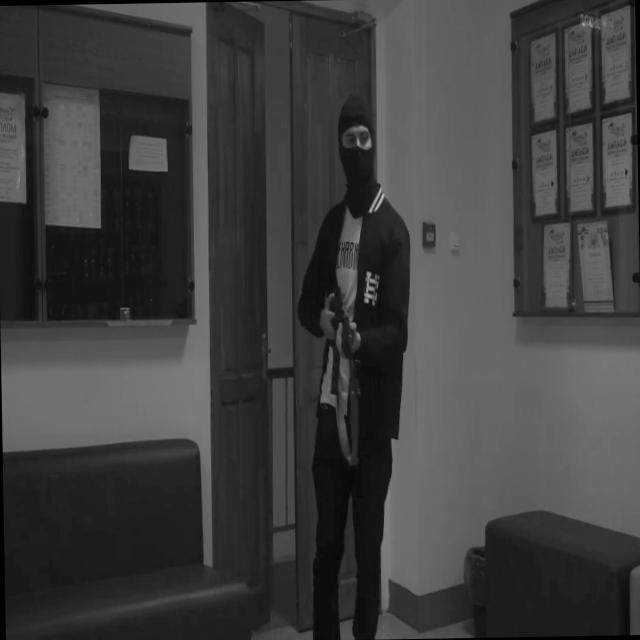gun: (321, 254, 362, 404)
person with a gun: (293, 93, 416, 640)
